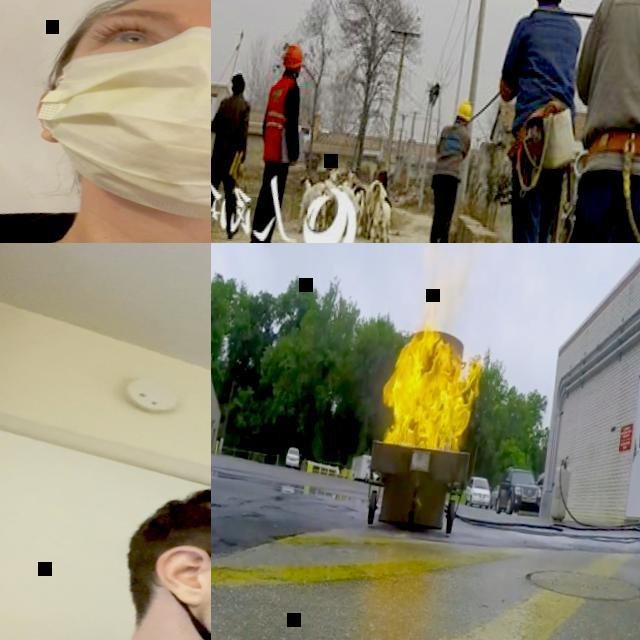helmet: (282, 42, 308, 70), (456, 100, 474, 122)
vest: (260, 77, 297, 164)
